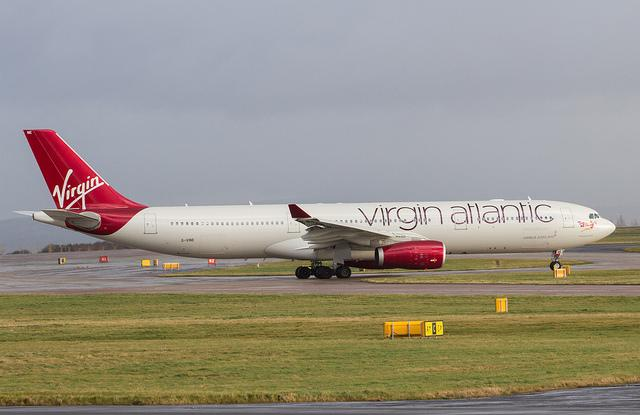airplane: (11, 128, 618, 281)
